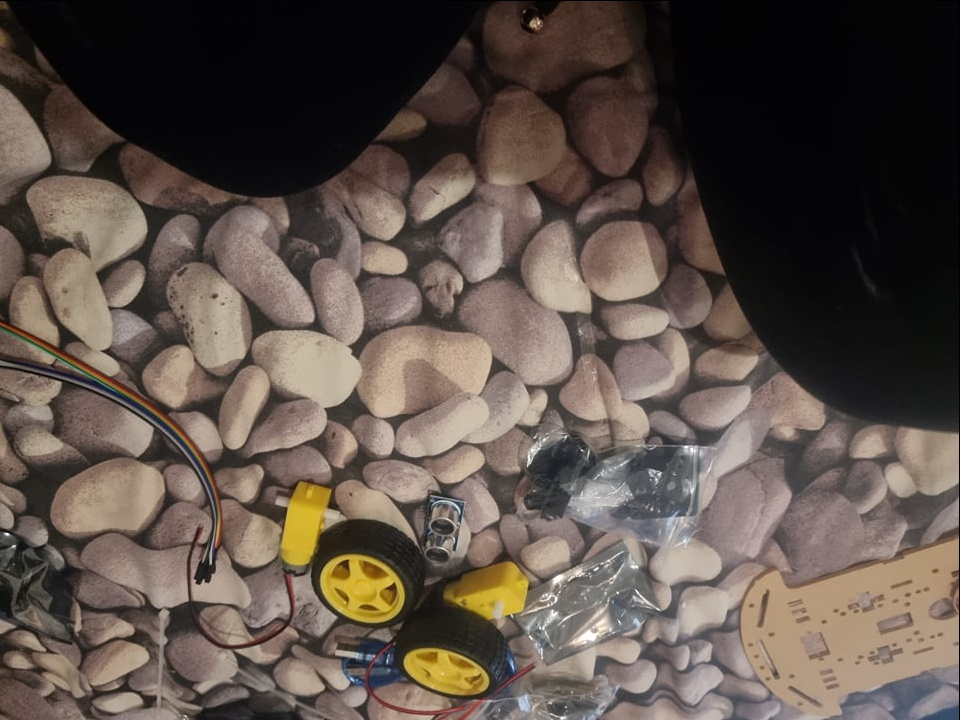SENSOR: (422, 492, 465, 562)
